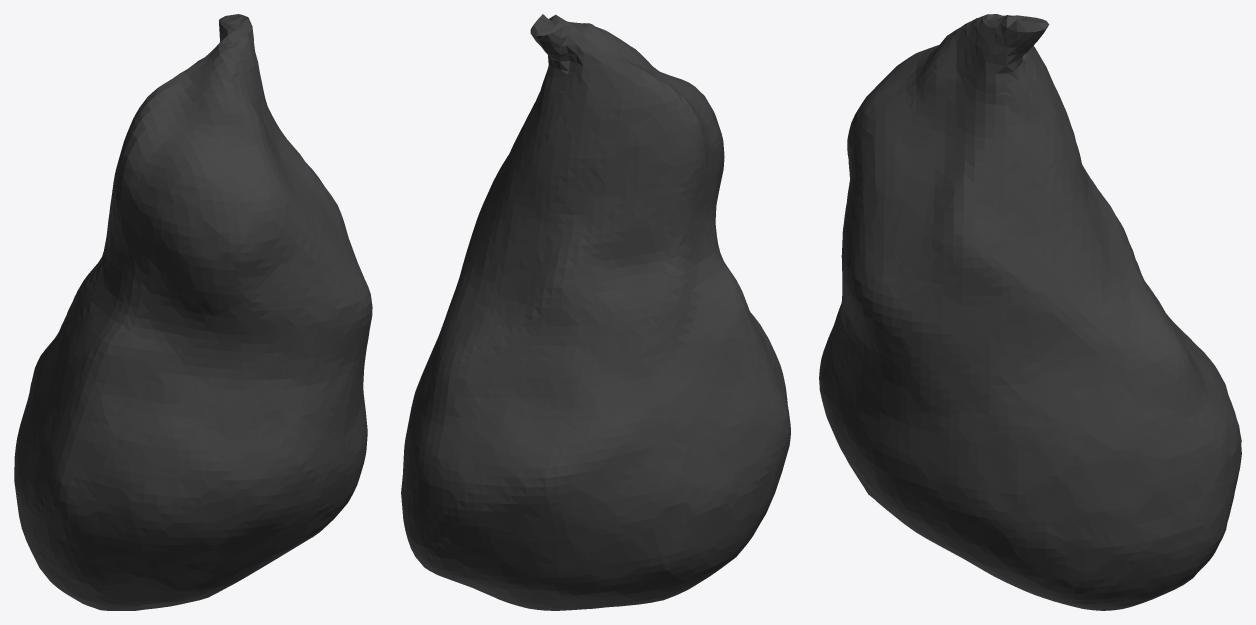
The model's file is Gall_bladder.glb.
The picture shows the model from 3 angles, left to right: view 1: azimuth 30°, elevation 25°; view 2: azimuth 150°, elevation 25°; view 3: azimuth 270°, elevation 25°; orthographic projection. The views are drawn at different scales.
Parts seen in each view (by area): view 1: Gall_bladder; view 2: Gall_bladder; view 3: Gall_bladder.
Boxes of the visible parts, x1=… form: Gall_bladder: x1=14, y1=14, x2=372, y2=610; Gall_bladder: x1=401, y1=14, x2=790, y2=610; Gall_bladder: x1=819, y1=14, x2=1241, y2=610.
Size of the model in its own units: 0.8241 by 1.39 by 0.9006.
Materials: 1 (1 with a texture image).
